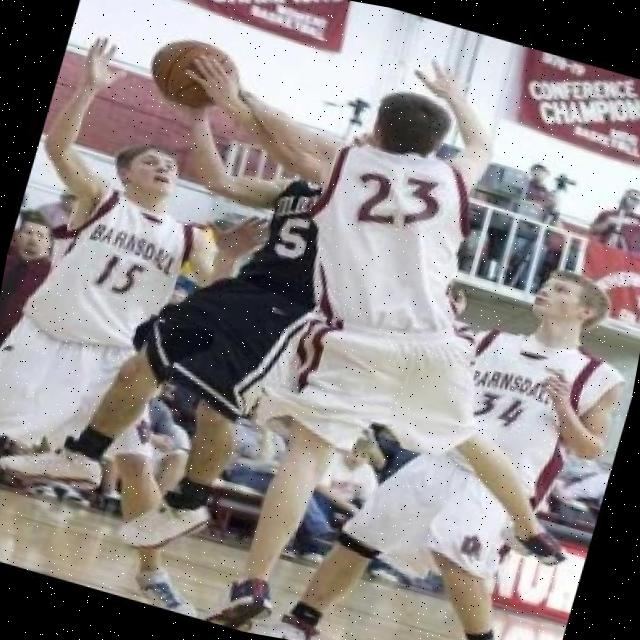ball: (134, 20, 254, 126)
